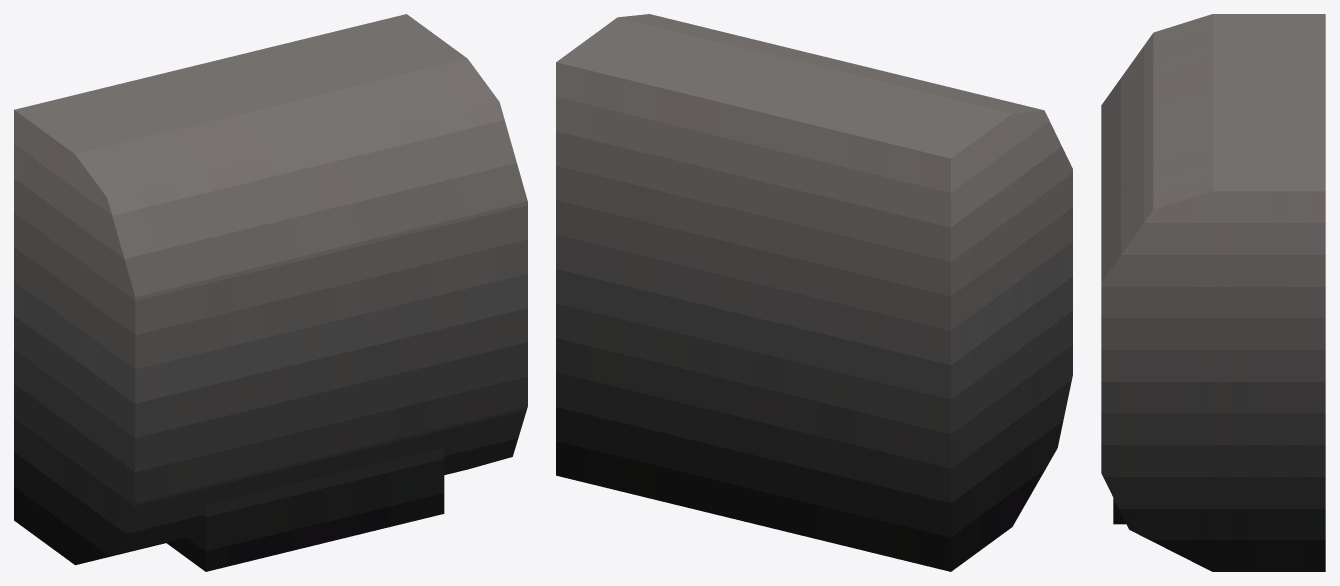
The picture shows the model from 3 angles, left to right: view 1: azimuth 30°, elevation 25°; view 2: azimuth 150°, elevation 25°; view 3: azimuth 270°, elevation 25°; orthographic projection. The views are drawn at different scales.
Parts seen in each view (by area): view 1: Cube; view 2: Cube; view 3: Cube.
Part boxes in pixels (x1=…): Cube: x1=14, y1=14, x2=527, y2=571; Cube: x1=556, y1=14, x2=1072, y2=571; Cube: x1=1101, y1=14, x2=1325, y2=571.
Bounding box in the file's own units: 2 × 2 × 1.07.
Materials: 1 (1 with a texture image).
